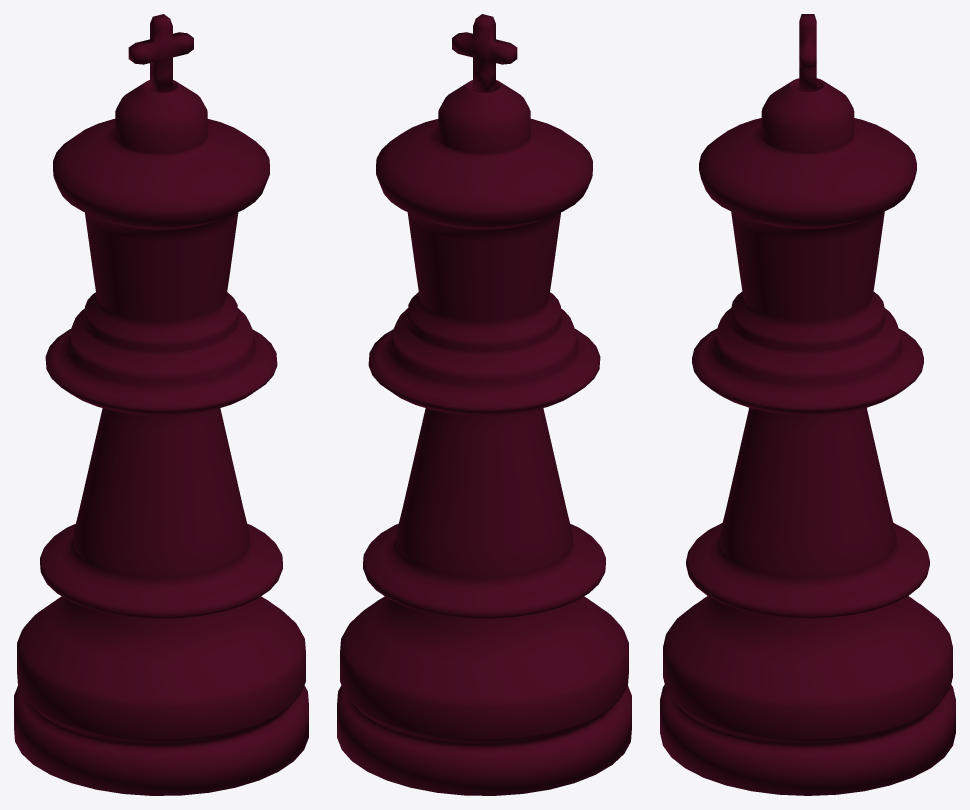
The model's file is gercek3_k_b.glb.
3 views of the same model, side by side, from view 1: azimuth 30°, elevation 25°; view 2: azimuth 150°, elevation 25°; view 3: azimuth 270°, elevation 25° (orthographic).
Visible parts, largest first — view 1: Object_5, Object_3; view 2: Object_5, Object_3; view 3: Object_5, Object_3.
Boxes of the visible parts, box(x1,y1,x2,y2) form: Object_5: box(14, 80, 308, 795); Object_3: box(128, 14, 193, 91); Object_5: box(337, 80, 631, 795); Object_3: box(452, 14, 517, 91); Object_5: box(660, 78, 955, 795); Object_3: box(799, 14, 816, 88).
Bounding box in the file's own units: 1.51 × 4.05 × 1.51.
